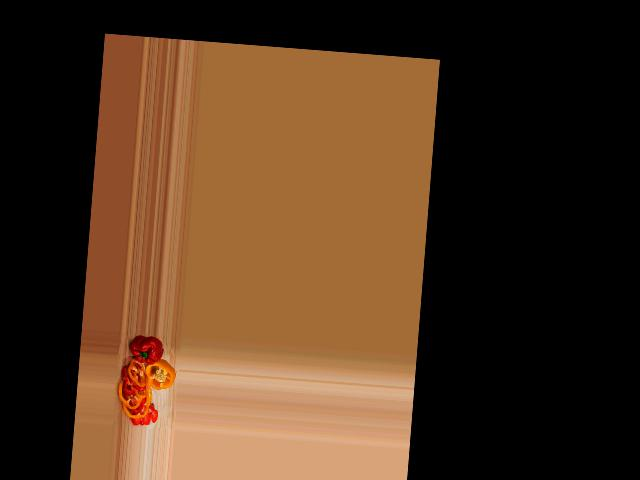bell_pepper: (144, 359, 177, 392)
